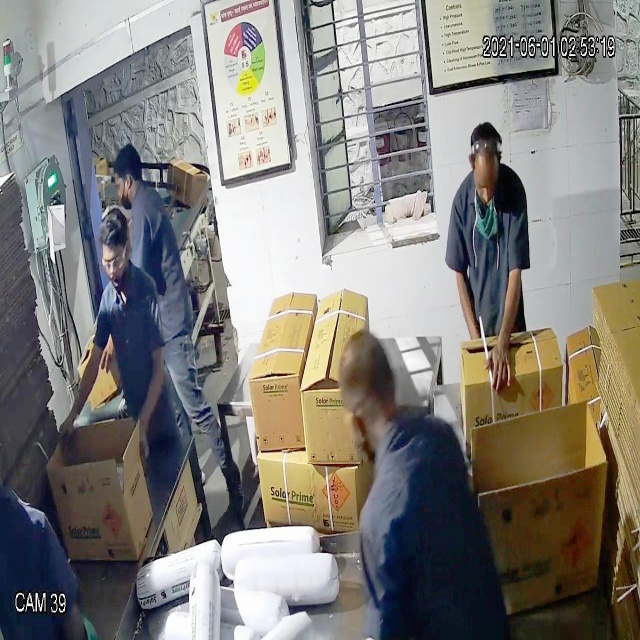Gafas: (98, 246, 134, 278)
